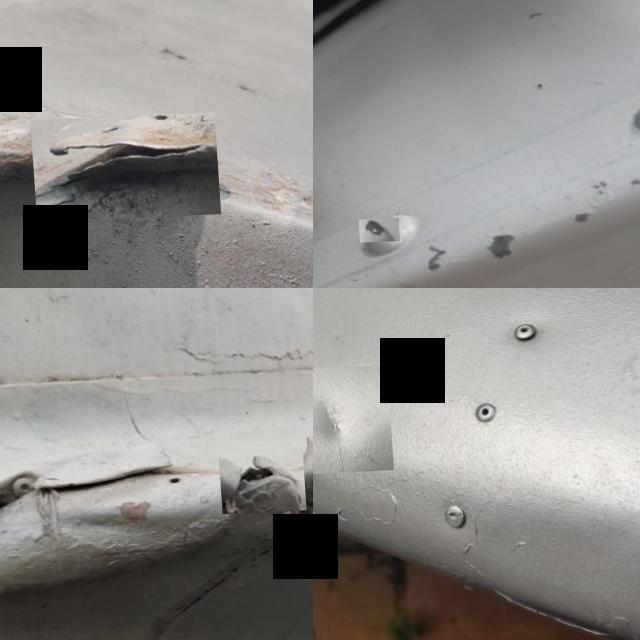Crack: (413, 170, 640, 284), (27, 117, 215, 226), (215, 438, 302, 517), (354, 221, 395, 245), (623, 94, 640, 135)
Dent: (313, 368, 388, 476)
